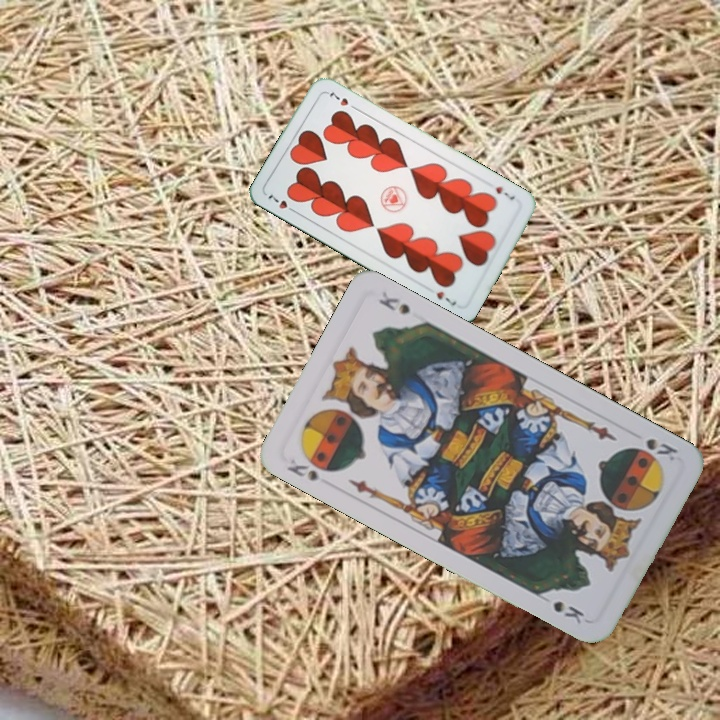H7: (263, 188, 300, 216), (492, 182, 518, 203)
SK: (282, 454, 323, 484), (642, 434, 681, 464)
